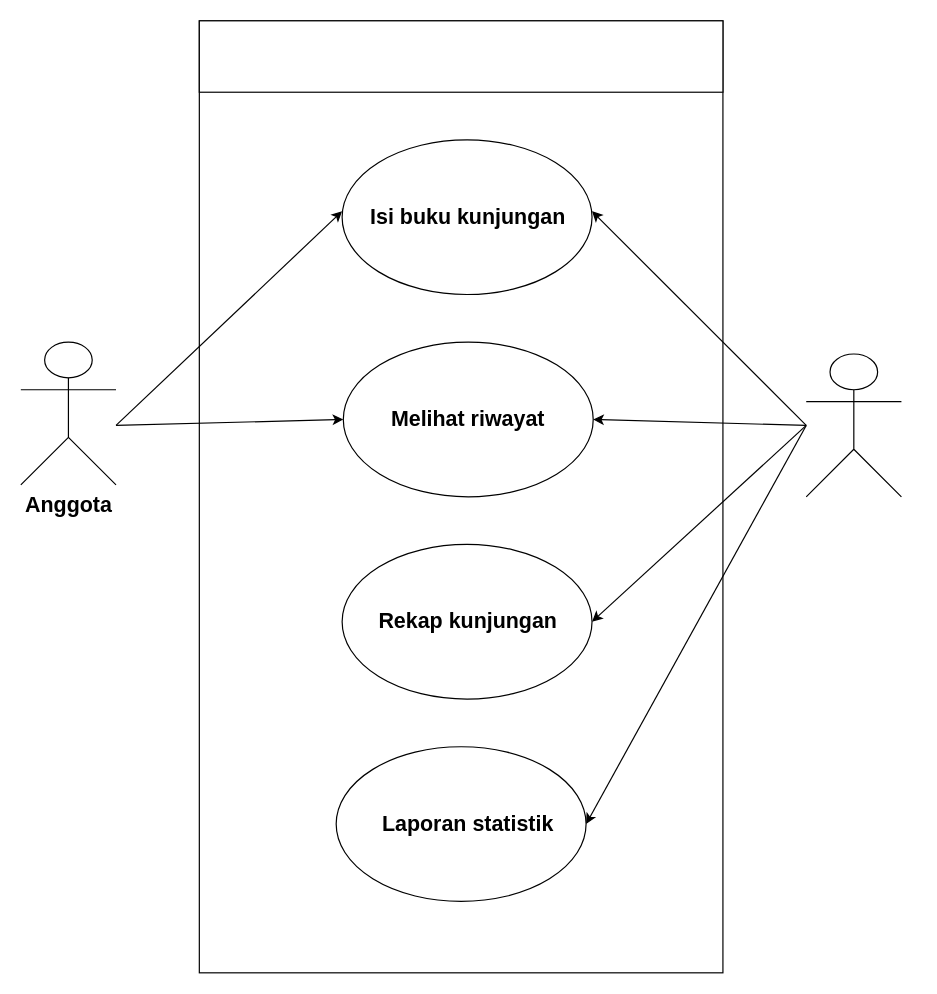
Image size: 937x994. Some labels were removed from this diagram. The shapes that lost their labels are listed below. From the top down, each one's centre as x and y in pixels, then its label:
the point at 460,56: Usecase Perpus Digital Buku Kunjungan
the point at 853,425: Pustakawan
